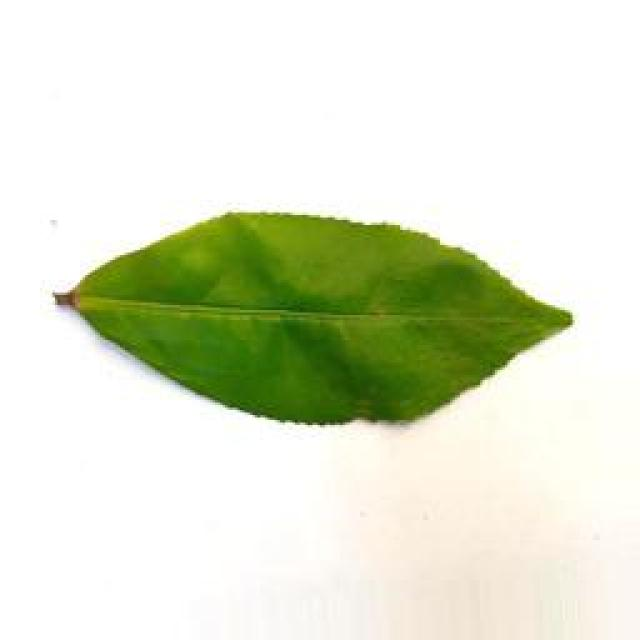Healthy: (60, 204, 569, 430)
